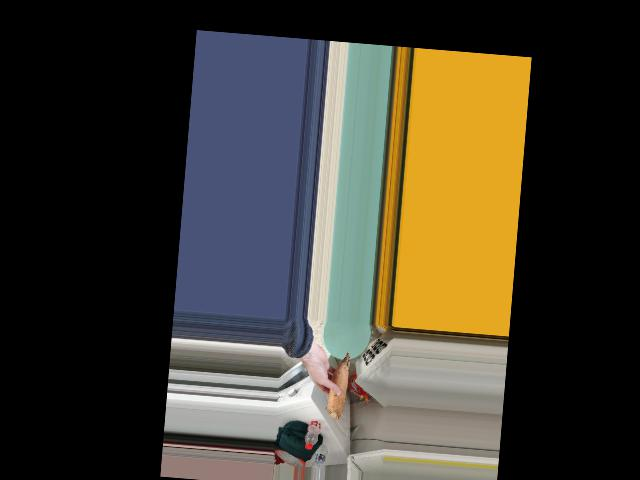sweet_potato: (325, 354, 349, 419)
